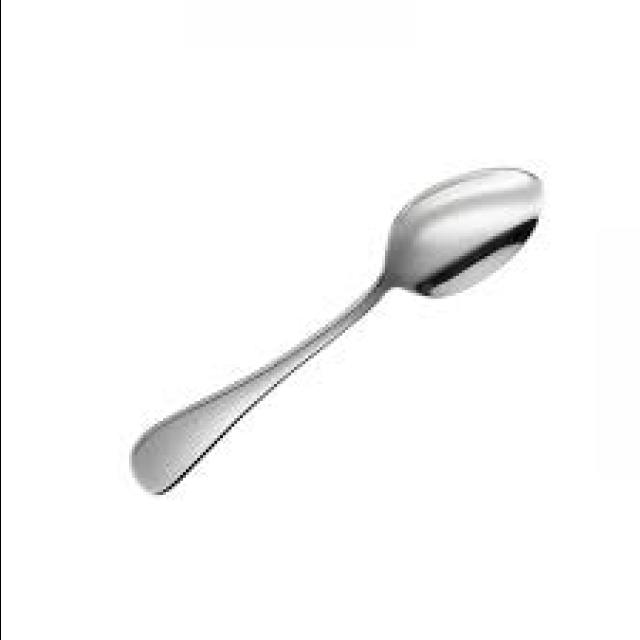spoon: (125, 168, 543, 501)
